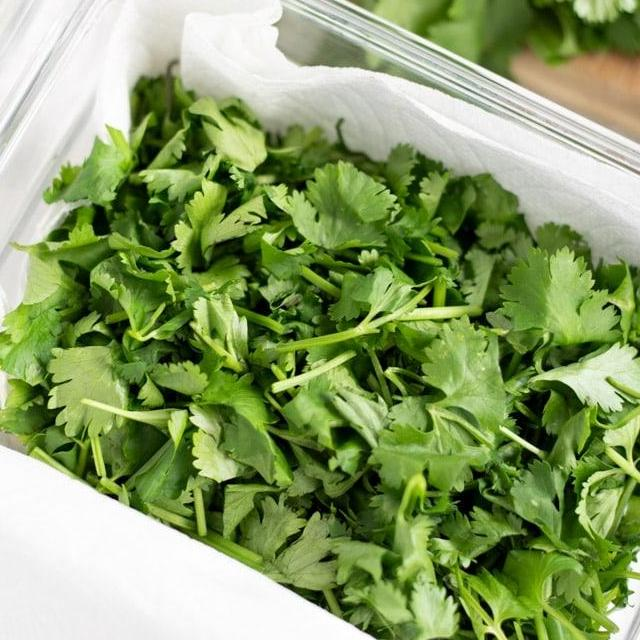cilantro: (46, 137, 640, 604)
